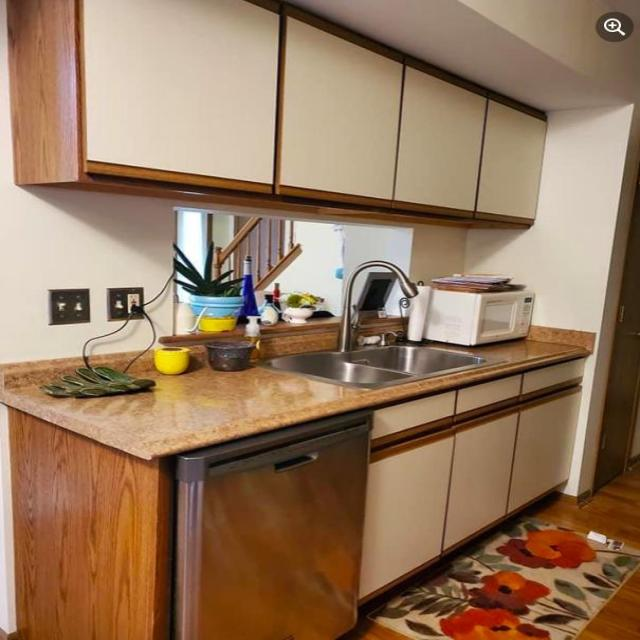dishwasher: (176, 409, 374, 639)
